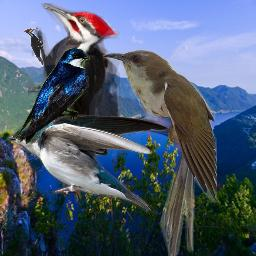Cuckoo: (103, 48, 217, 256)
Swallow: (6, 113, 169, 214), (15, 48, 90, 144)
Woodpecker: (28, 3, 120, 157), (23, 28, 43, 67)
